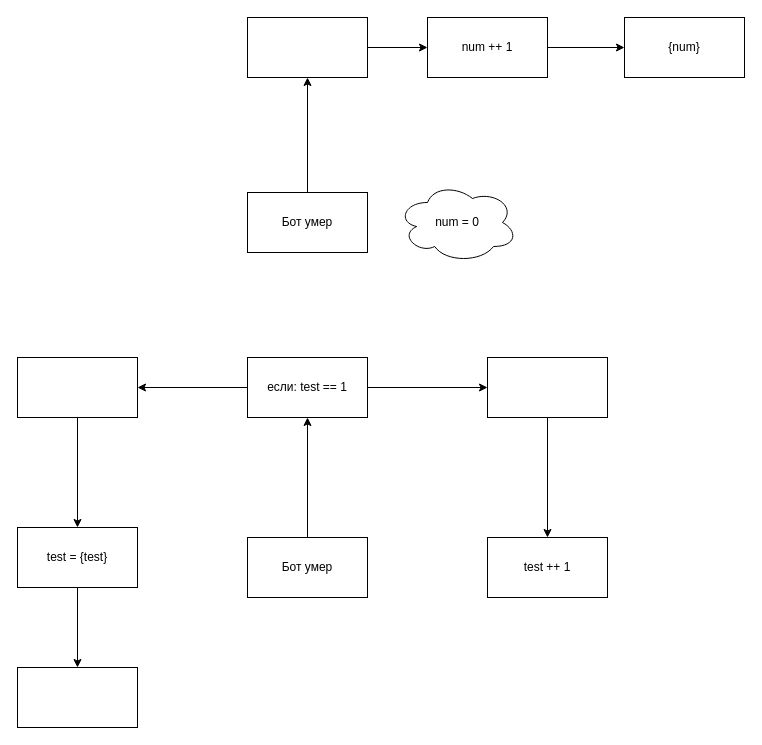
The diagram is 762 pixels wide and 745 high, and some of its shapes have lost their labels. Here are the shapes that lost their labels. From the top down, the box of each, then its label:
(246, 16, 368, 78): повторить: бесконечно
(16, 356, 138, 418): Да
(486, 356, 608, 418): Нет
(16, 666, 138, 728): test -- 1
